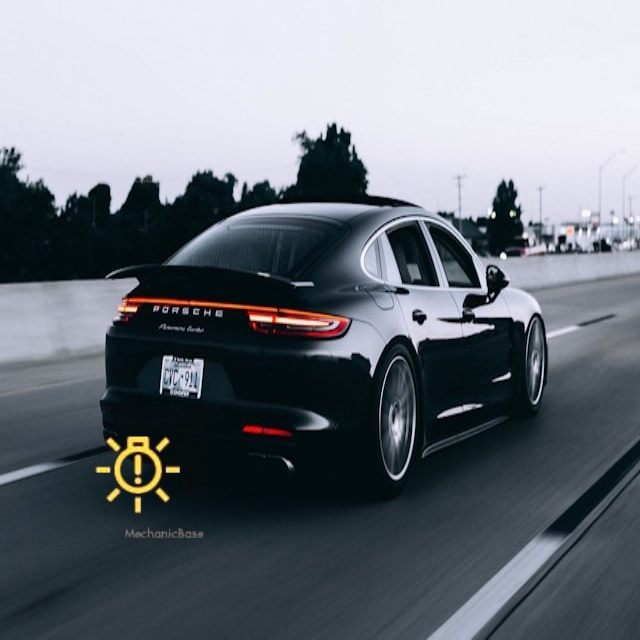symbol: (70, 406, 209, 545), (67, 59, 197, 189)
